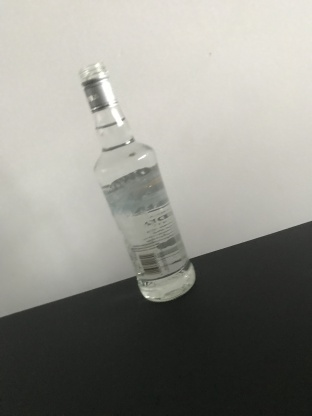nakretka: (76, 58, 118, 114)
